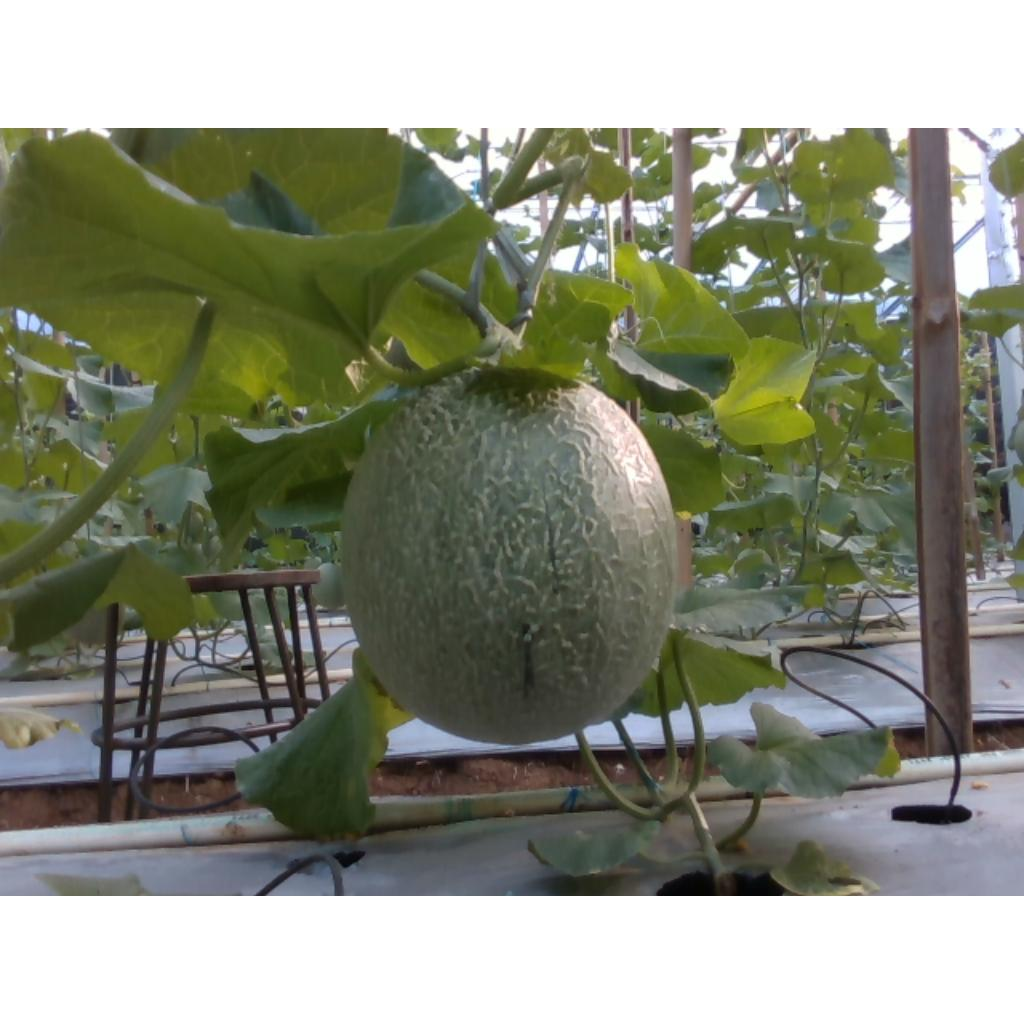melon: (342, 368, 678, 745)
